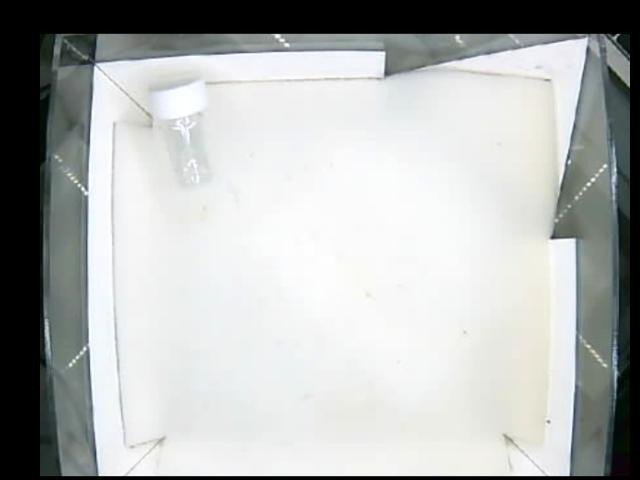Bottle: (148, 78, 215, 192)
